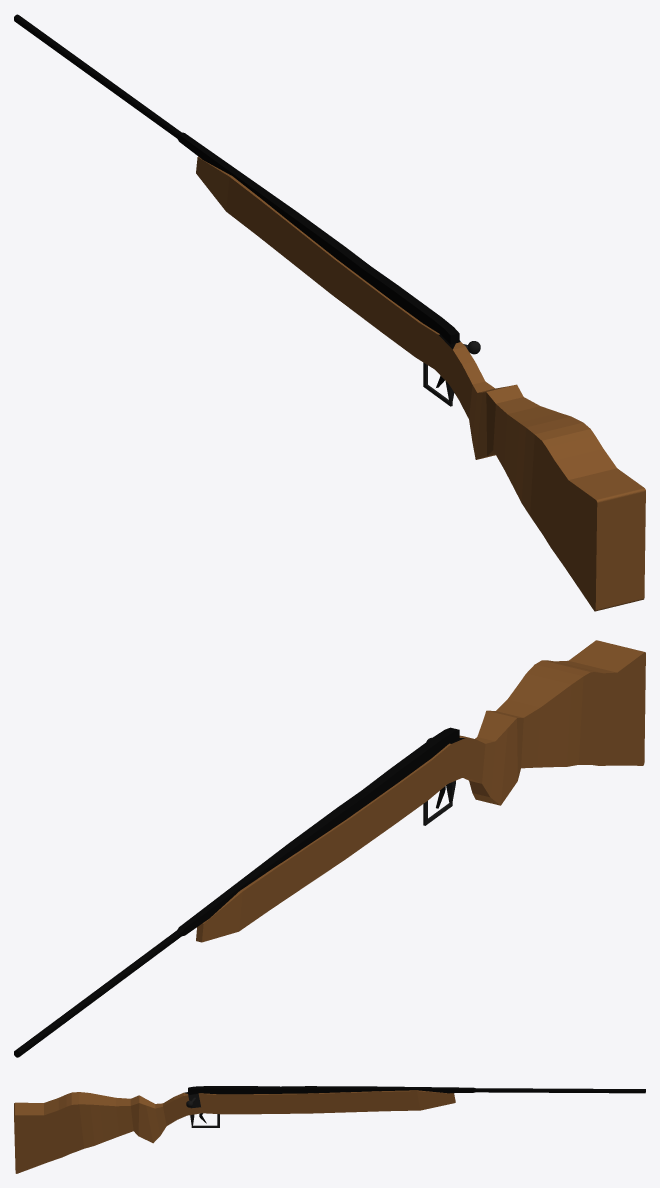
The model's file is Rifle.fbx.
3 views of the same model, one above another, from view 1: azimuth 30°, elevation 25°; view 2: azimuth 150°, elevation 25°; view 3: azimuth 270°, elevation 25° (orthographic). The views are drawn at different scales.
Visible parts, largest first — view 1: Gun; view 2: Gun; view 3: Gun.
Part boxes in pixels (left/top/right/bottom): Gun: left=14, top=14, right=645, bottom=611; Gun: left=14, top=640, right=645, bottom=1057; Gun: left=14, top=1086, right=645, bottom=1173.
Bounding box in the file's own units: 82.79 × 240 × 1706.
